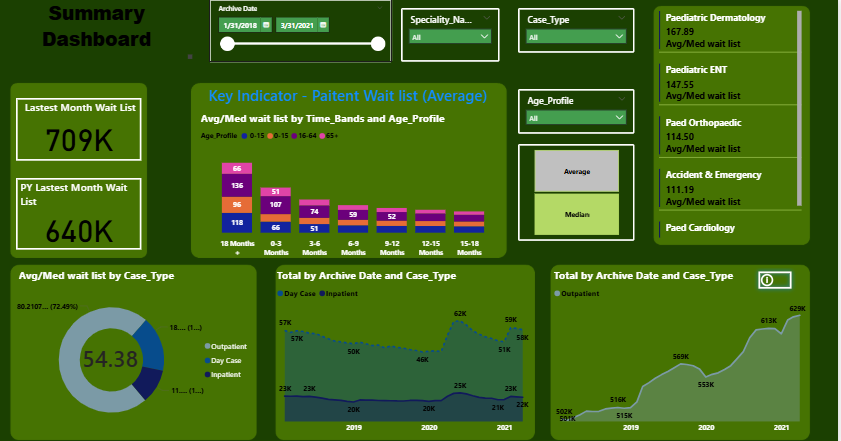

What the dashboard file says about the page in this screenshot:
{"tool":"powerbi","page":{"name":"Summary","canvas":[1500,800],"ordinal":0},"visuals":[{"type":"card","title":"PY Lastest Month Wait List","fields":{"Values":["All Data.PY Latest Month Wait List"]},"box":[32,320,224,128],"z":0},{"type":"card","title":"Lastest Month Wait List","fields":{"Values":["All Data.Latest Month Wait List"]},"box":[32,176,224,112],"z":1000},{"type":"slicer","fields":{"Values":["Calculation Method.Cal Method"]},"box":[928.3,258.3,208.3,173.3],"z":2000},{"type":"donutChart","fields":{"Category":["All Data.Case_Type"],"Y":["All Data.Avg/Med wait list"]},"box":[31.7,480,426.7,303.3],"z":3000,"group":"g1"},{"type":"columnChart","fields":{"Y":["All Data.Avg/Med wait list"],"Category":["All Data.Time_Bands"],"Series":["All Data.Age_Profile"]},"box":[356.7,200,545,268.3],"z":3000},{"type":"card","fields":{"Values":["All Data.No Data Left"]},"box":[536.7,550,355,180],"z":4000},{"type":"lineChart","title":"Total by Archive Date and Case_Type","fields":{"Y":["Sum(All Data.Total)"],"Series":["All Data.Case_Type"],"Category":["All Data.Archive Date"]},"box":[493.3,480,463.3,303.3],"z":5000},{"type":"slicer","fields":{"Values":["All Data.Archive Date"]},"box":[376.7,0,326.7,113.3],"z":6000},{"type":"slicer","fields":{"Values":["All Data.Case_Type"]},"box":[928,16,208,80],"z":7000},{"type":"slicer","fields":{"Values":["All Data.Speciality_Name"]},"box":[720,16,176,96],"z":8000},{"type":"textbox","title":"Summary Dashboard","box":[0,0,351.7,111.7],"z":9000},{"type":"slicer","fields":{"Values":["All Data.Age_Profile"]},"box":[928.3,160,208.3,80],"z":10000},{"type":"card","fields":{"Values":["All Data.No Data"]},"box":[1033.3,541.7,355,180],"z":11000},{"type":"lineChart","title":"Total by Archive Date and Case_Type","fields":{"Y":["Sum(All Data.Total)"],"Series":["All Data.Case_Type"],"Category":["All Data.Archive Date"]},"box":[988.3,480,463.3,303.3],"z":12000},{"type":"card","fields":{"Values":["All Data.Avg/Med wait list"]},"box":[143.9,591.7,111.7,98.3],"z":12002,"group":"g1"},{"type":"multiRowCard","fields":{"Values":["All Data.Avg/Med wait list","All Data.Speciality_Name"]},"box":[1175,16.7,265,415],"z":13000},{"type":"card","fields":{"Values":["All Data.Avg/Med wait list Indices"]},"box":[356.7,145,535,55],"z":14000},{"type":"group","id":"g1","title":"Group 1","box":[31.7,480,426.7,303.3],"z":15000},{"type":"actionButton","box":[1350,478.3,75,46.7],"z":16000}]}

Visuals, with their boxes in screenshot pixels (x1, y1, x2, y2), scaled from the page's 1500x800 canvas onto the 841x441 screenshot:
"PY Lastest Month Wait List" card: bbox(18, 176, 144, 247)
"Lastest Month Wait List" card: bbox(18, 97, 144, 159)
slicer - Calculation Method.Cal Method: bbox(520, 142, 637, 238)
donutChart - All Data.Case_Type x All Data.Avg/Med wait list: bbox(18, 265, 257, 432)
columnChart - All Data.Avg/Med wait list x All Data.Time_Bands: bbox(200, 110, 506, 258)
card - All Data.No Data Left: bbox(301, 303, 500, 402)
"Total by Archive Date and Case_Type" lineChart: bbox(277, 265, 536, 432)
slicer - All Data.Archive Date: bbox(211, 0, 394, 62)
slicer - All Data.Case_Type: bbox(520, 9, 637, 53)
slicer - All Data.Speciality_Name: bbox(404, 9, 502, 62)
"Summary Dashboard" textbox: bbox(0, 0, 197, 62)
slicer - All Data.Age_Profile: bbox(520, 88, 637, 132)
card - All Data.No Data: bbox(579, 299, 778, 398)
"Total by Archive Date and Case_Type" lineChart: bbox(554, 265, 814, 432)
card - All Data.Avg/Med wait list: bbox(81, 326, 143, 380)
multiRowCard - All Data.Avg/Med wait list x All Data.Speciality_Name: bbox(659, 9, 807, 238)
card - All Data.Avg/Med wait list Indices: bbox(200, 80, 500, 110)
"Group 1" group: bbox(18, 265, 257, 432)
actionButton: bbox(757, 264, 799, 289)
